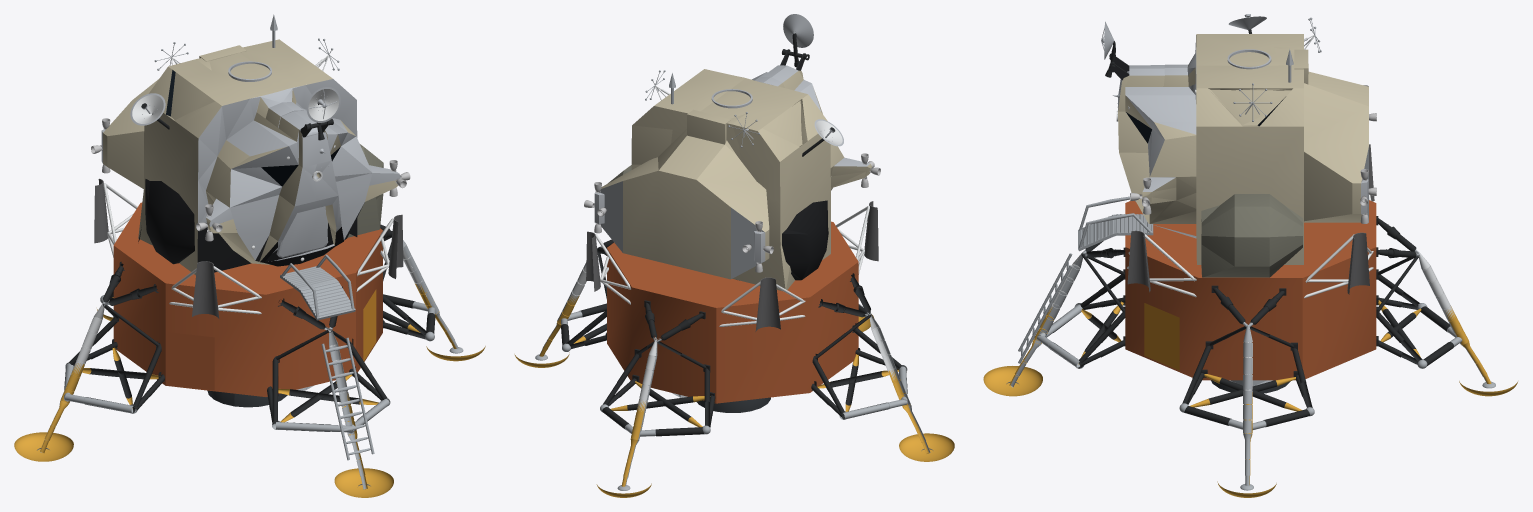
Rendered from lm5_eagle.glb.
The picture shows the model from 3 angles, left to right: view 1: azimuth 30°, elevation 25°; view 2: azimuth 150°, elevation 25°; view 3: azimuth 270°, elevation 25°; orthographic projection. The views are drawn at different scales.
Parts seen in each view (by area): view 1: lm5_eagle; view 2: lm5_eagle; view 3: lm5_eagle.
Boxes of the visible parts, x1=… form: lm5_eagle: x1=14, y1=14, x2=485, y2=497; lm5_eagle: x1=514, y1=14, x2=954, y2=497; lm5_eagle: x1=983, y1=14, x2=1517, y2=497.
Bounding box in the file's own units: 9 × 6.87 × 9.
